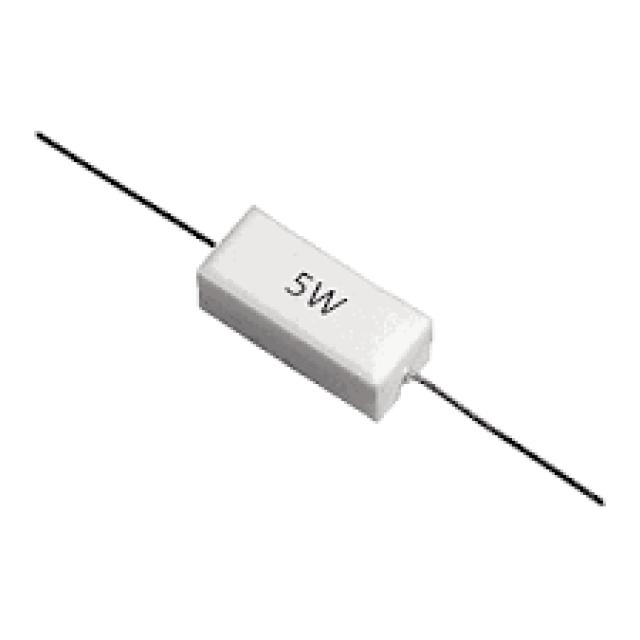Resistor: (192, 205, 435, 420)
